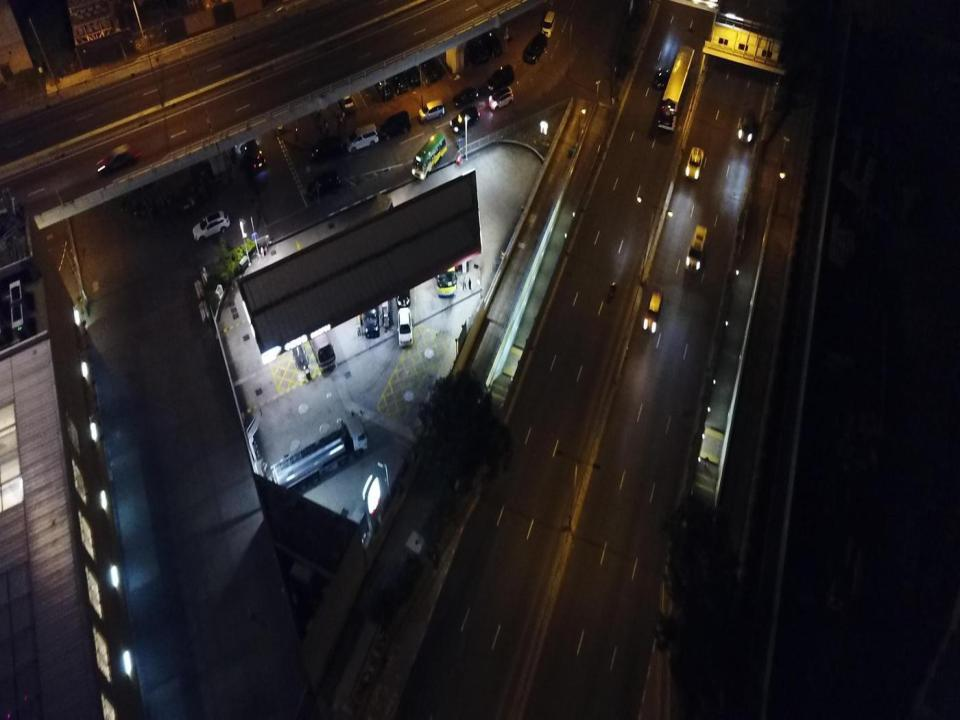bus: (657, 46, 695, 132), (436, 224, 458, 300)
car: (96, 144, 140, 172), (193, 210, 230, 240), (239, 137, 266, 173), (686, 226, 708, 270), (307, 170, 343, 196), (347, 122, 378, 152), (450, 104, 481, 134), (643, 288, 663, 333), (309, 135, 345, 159), (488, 61, 516, 89), (450, 85, 481, 109), (524, 33, 548, 64), (380, 111, 410, 135), (362, 298, 380, 337), (488, 85, 516, 109), (419, 98, 446, 122), (685, 146, 704, 180), (466, 34, 488, 62), (395, 269, 412, 305), (398, 307, 413, 347), (420, 54, 442, 81), (738, 110, 755, 144), (483, 29, 502, 58), (377, 74, 394, 101), (405, 59, 421, 84), (392, 69, 408, 94), (542, 9, 555, 38), (654, 66, 670, 88), (338, 92, 354, 112)
truck: (270, 413, 368, 493)
van: (304, 315, 336, 372), (412, 134, 447, 178)
